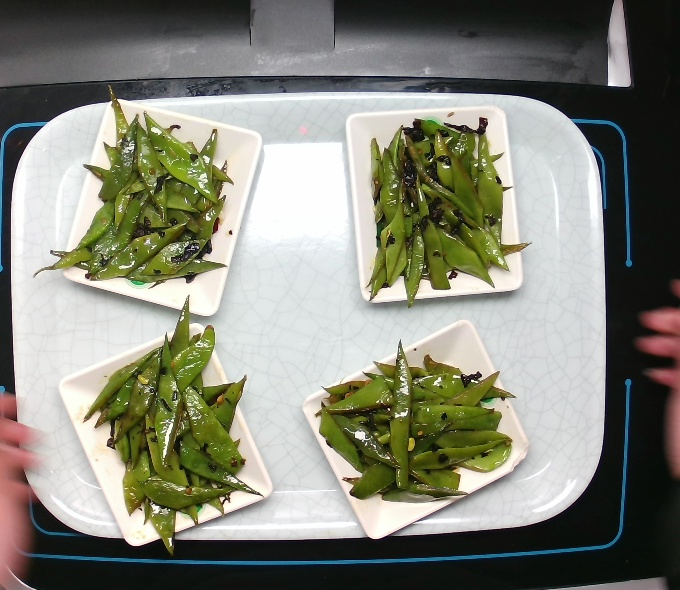wcq-ChaoSiJiDou: (87, 318, 247, 534), (315, 338, 514, 506), (64, 113, 233, 283), (365, 115, 507, 292)
